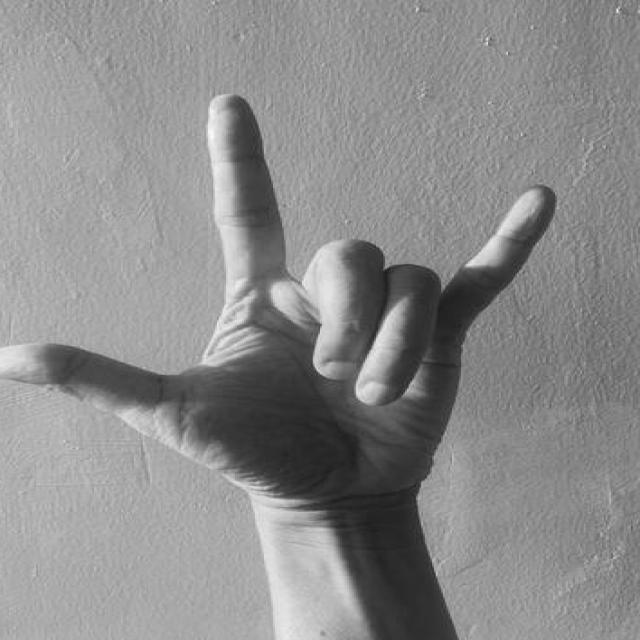i love you: (0, 85, 566, 526)
